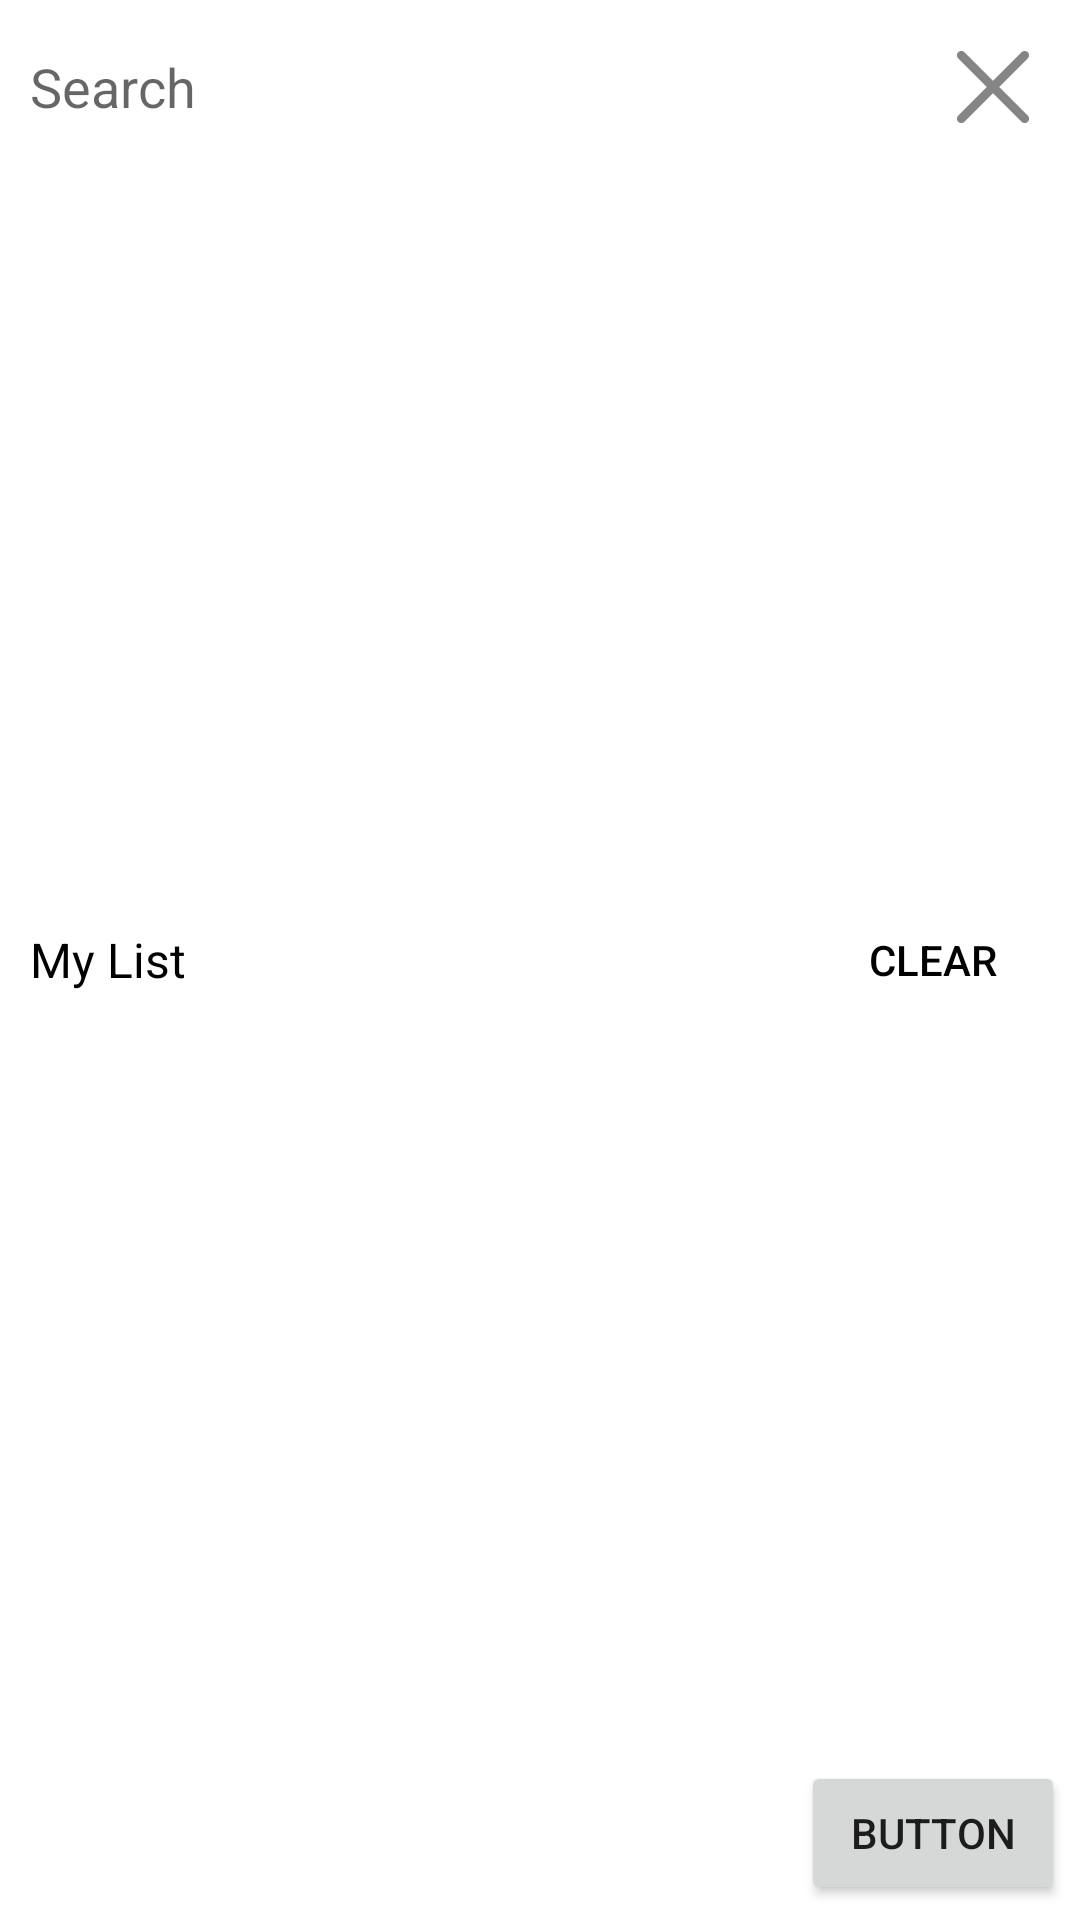

Point at icon controls on the screen. Image size 1080 x 1920, points as point (x, y).
cross: point (993, 87)
